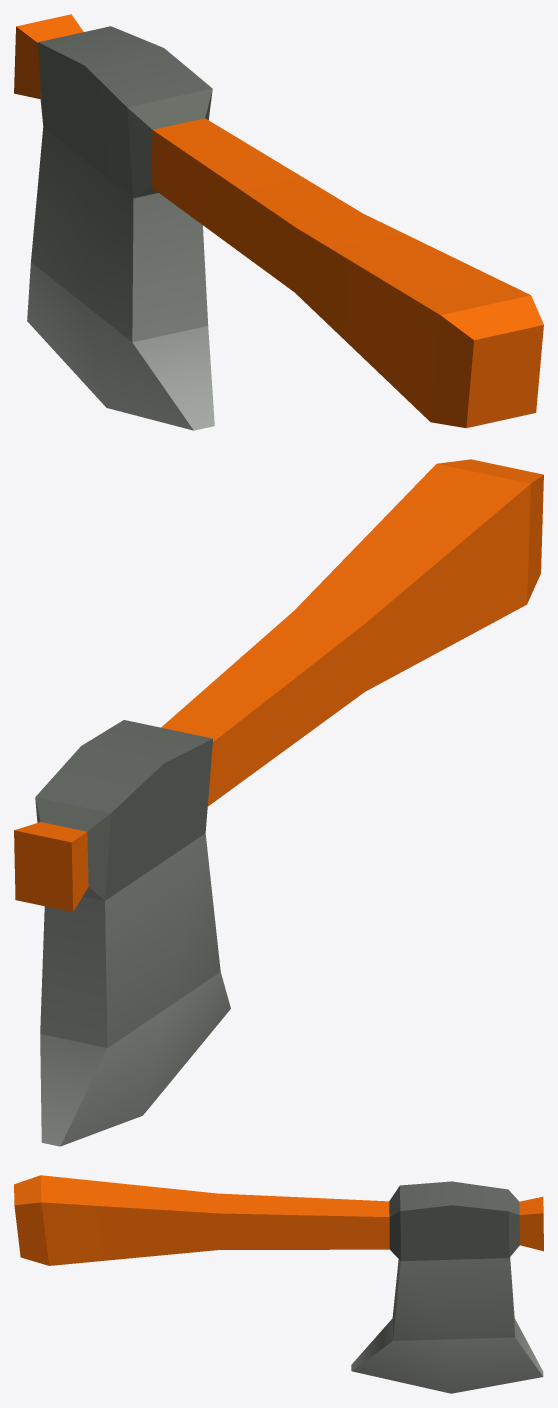
File: axe.fbx
3 renders of one model, top to bottom at view 1: azimuth 30°, elevation 25°; view 2: azimuth 150°, elevation 25°; view 3: azimuth 270°, elevation 25°, orthographic. The views are drawn at different scales.
Visible parts, largest first — view 1: axe; view 2: axe; view 3: axe.
Part boxes in pixels (x1,y1,x2,y2): axe: [14, 14, 543, 430]; axe: [14, 459, 543, 1146]; axe: [14, 1175, 543, 1393].
Size of the model in its own units: 0.57 by 2.06 by 4.77.
